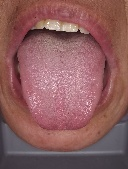tongue: (15, 42, 106, 131)
